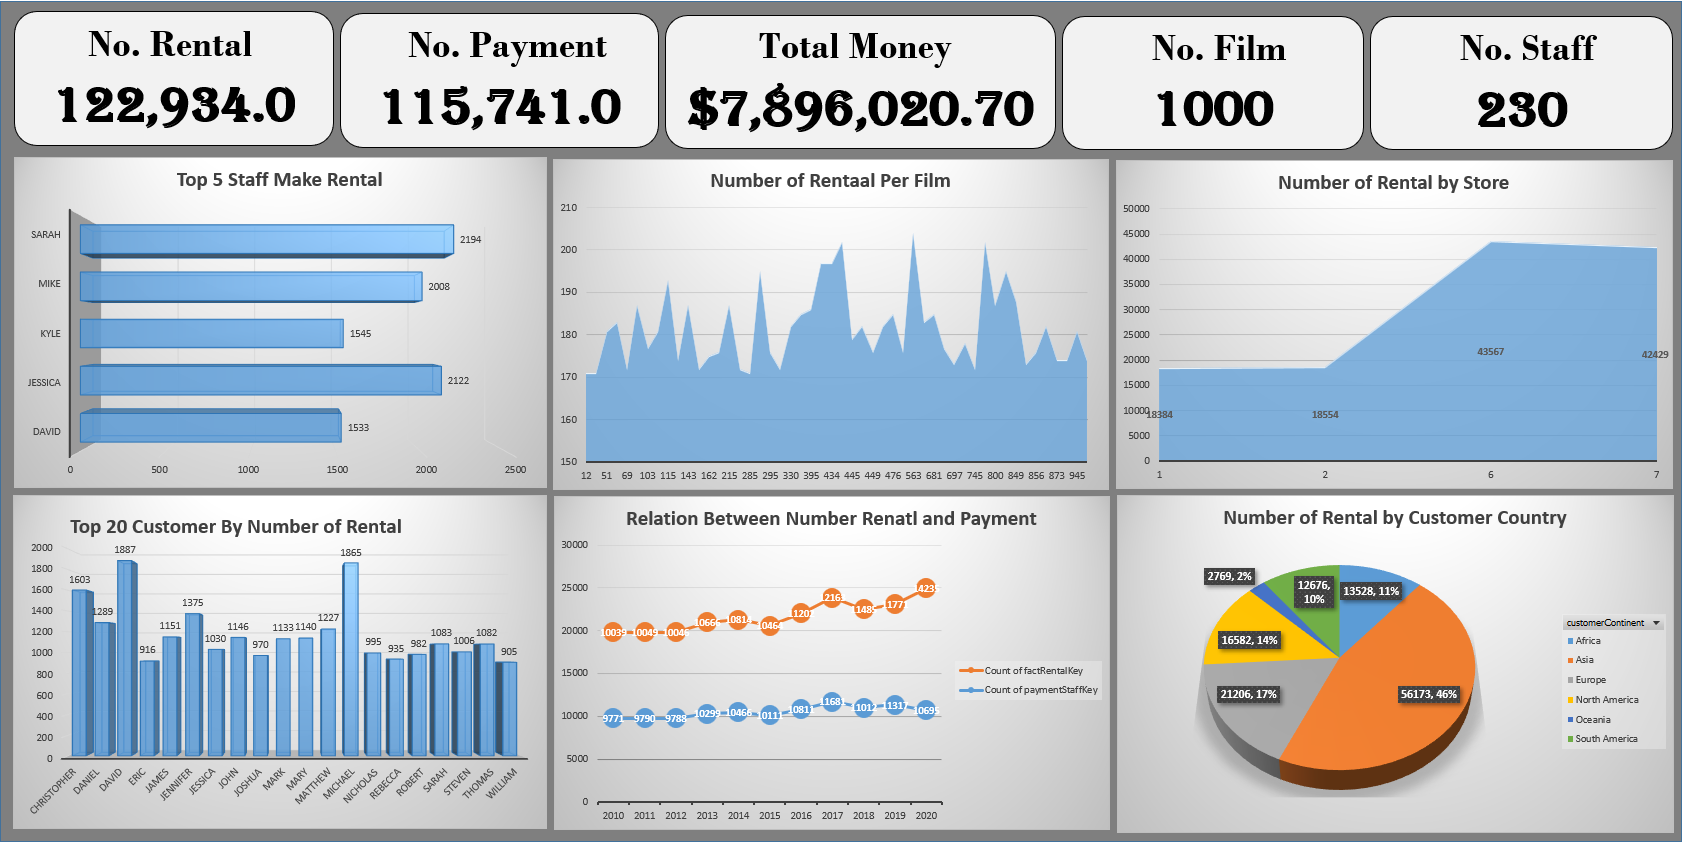

The page's visual inventory and layout, read from the dashboard file:
{"tool":"tableau","page":{"name":"All test","canvas":[1920,1080],"ordinal":0},"visuals":[{"type":"image","param":"D:/ITI intensive code camp/Graduation Project/Sakila/Tableau/navigation bar all.","box":[8,8,1904,1064]},{"type":"dashboard-object","box":[734,823,185,123]},{"type":"dashboard-object","box":[1017,828,180,123]},{"type":"dashboard-object","box":[1298,828,180,123]},{"type":"dashboard-object","box":[1579,828,180,123]},{"type":"dashboard-object","box":[455,830,180,123]},{"type":"dashboard-object","box":[178,834,175,122]}]}

Visuals, with their boxes on the page's 1920x1080 design canvas (x1, y1, x2, y2). These are canvas units, not pixel positions in the 1682x842 screenshot, which may show the page scaled, cropped or inside an application window:
image: [8, 8, 1912, 1072]
dashboard-object: [734, 823, 919, 946]
dashboard-object: [1017, 828, 1197, 951]
dashboard-object: [1298, 828, 1478, 951]
dashboard-object: [1579, 828, 1759, 951]
dashboard-object: [455, 830, 635, 953]
dashboard-object: [178, 834, 353, 956]
